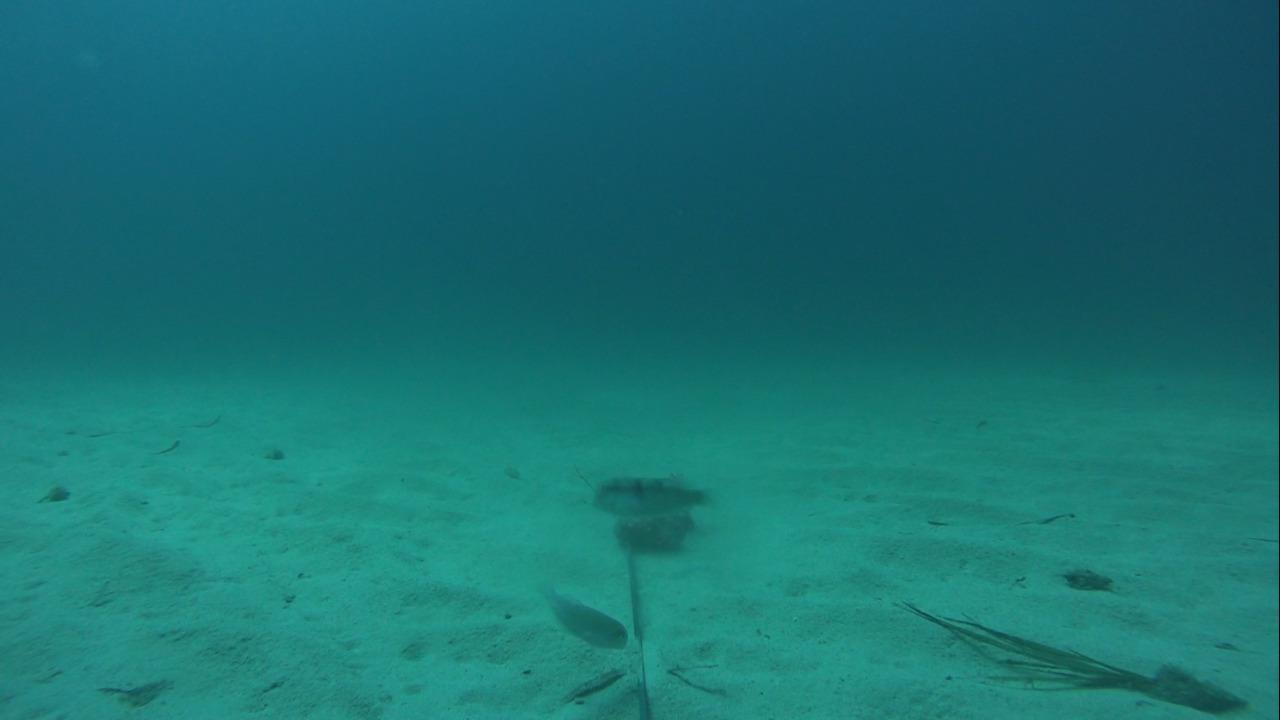raor: (528, 576, 636, 660), (585, 469, 720, 524)
